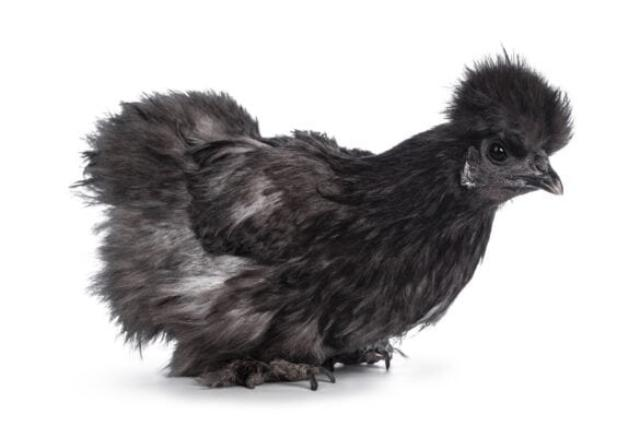Chicken: (74, 51, 574, 393)
